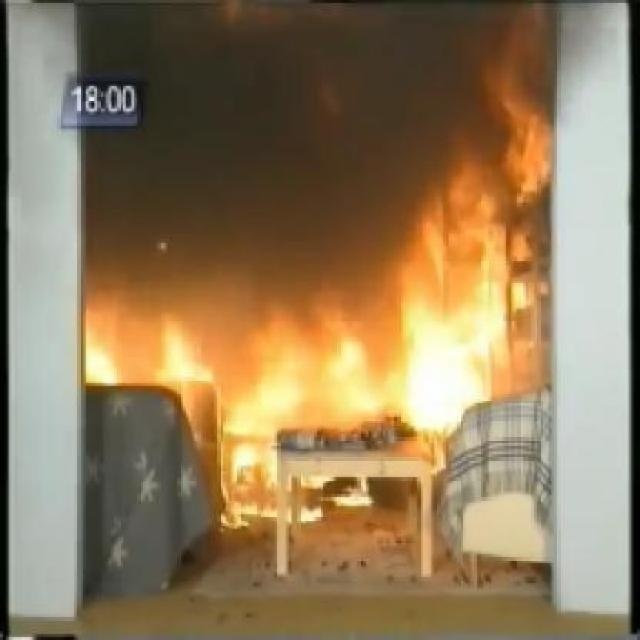fire: (95, 257, 559, 409)
smoke: (100, 6, 552, 249)
